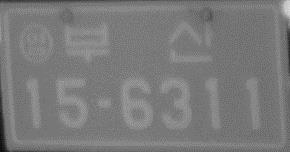-: (94, 93, 115, 112)
1: (242, 75, 267, 132), (202, 75, 225, 131), (22, 77, 45, 128)
3: (158, 76, 194, 131)
5: (53, 77, 89, 130)
6: (119, 76, 156, 131)
부산_D: (62, 19, 216, 67)
영: (19, 23, 55, 65)
